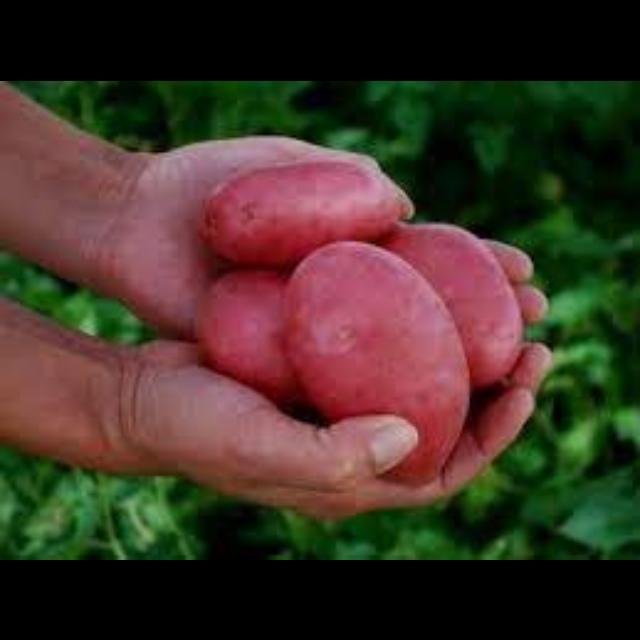Defected potato: (276, 240, 477, 488), (193, 263, 387, 419), (195, 155, 412, 267)
